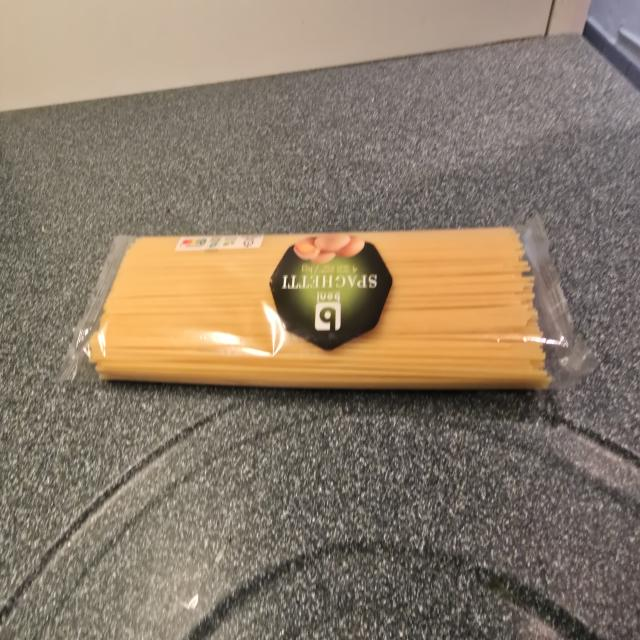Pasta: (63, 217, 594, 389)
